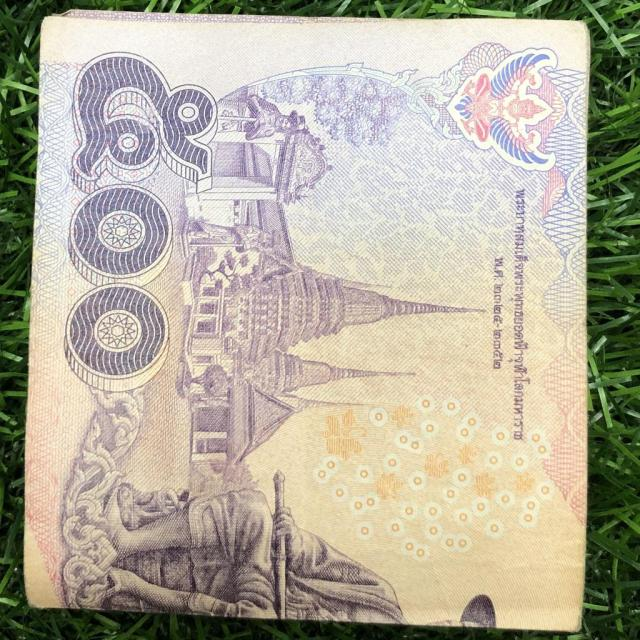THAI500: (19, 11, 592, 639)
